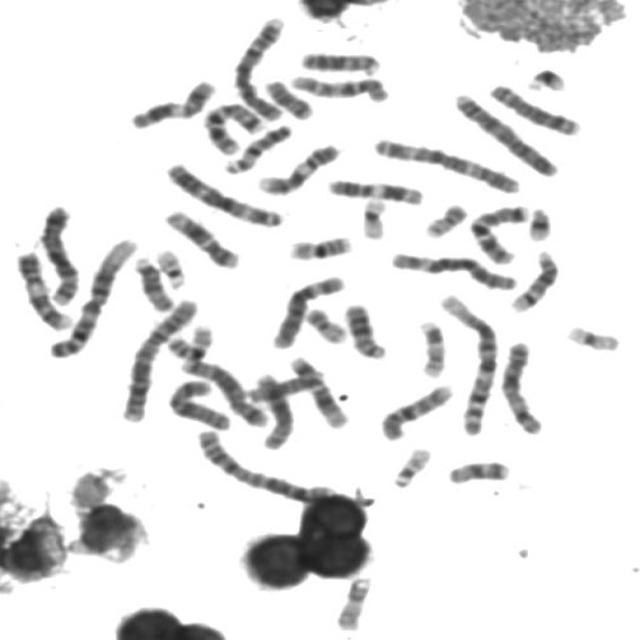A1: (43, 232, 139, 360), (434, 288, 501, 436)
A2: (192, 424, 337, 507), (116, 293, 201, 423)
A3: (368, 132, 523, 195), (160, 158, 286, 230)
B4: (448, 88, 561, 178), (228, 11, 290, 122)
B5: (175, 354, 272, 429), (34, 199, 83, 307)
C10: (374, 378, 457, 442), (286, 69, 392, 104)
C11: (125, 75, 219, 131), (322, 174, 426, 206)
C12: (159, 205, 242, 271), (285, 352, 351, 429)
C6: (268, 270, 348, 350), (384, 246, 519, 293)
C7: (463, 200, 532, 267), (198, 97, 266, 156)
C8: (485, 78, 585, 138), (250, 368, 296, 450)
C9: (12, 246, 75, 331), (253, 139, 344, 197)
D13: (340, 298, 389, 361), (296, 46, 383, 76)
D14: (219, 122, 300, 176), (505, 246, 563, 314)
D15: (242, 363, 327, 404), (130, 252, 177, 313)
E16: (162, 319, 218, 363), (282, 230, 355, 262)
E17: (331, 572, 374, 632), (414, 316, 449, 379)
E18: (258, 74, 316, 121), (443, 456, 513, 486)
F19: (561, 320, 624, 353), (356, 193, 389, 241)
F20: (420, 198, 471, 239), (300, 303, 349, 345)
G21: (522, 61, 570, 93), (523, 202, 555, 243)
G22: (387, 442, 435, 490), (150, 244, 190, 290)
X: (496, 336, 547, 436), (163, 375, 234, 432)
